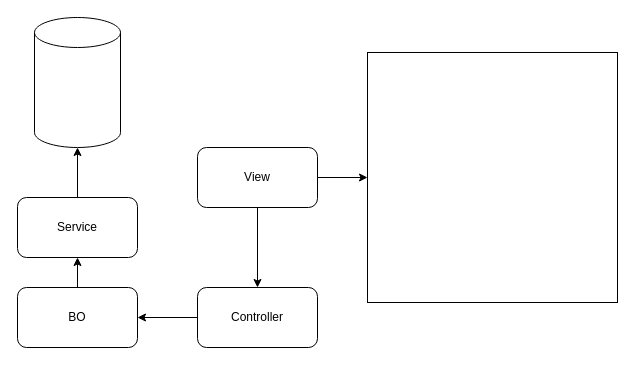
Some shapes in this 635 by 365 pixel diagram are drawn without their labels. The shapes that lost their labels are listed below. From the top down, each one's centre as x and y in pixels, then its label:
point (77, 82): Database Postgres
point (492, 177): Vue.js Bootstrap FontAwesome GoogleFonts
